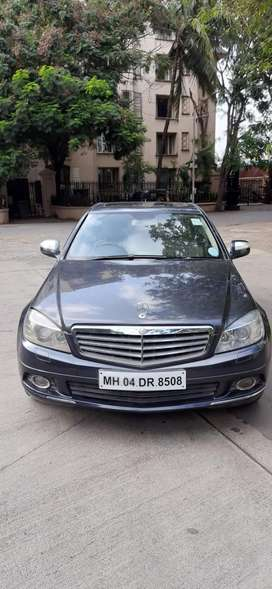MH04DR8508: (99, 367, 186, 389)
